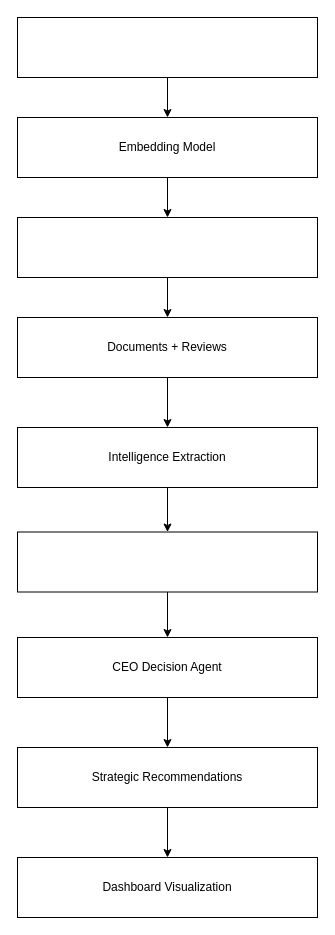
The diagram is 335 pixels wide and 935 high, and some of its shapes have lost their labels. Here are the shapes that lost their labels. From the top down, the box of each, then its label:
(16, 16, 318, 78): User Query
(16, 216, 318, 278): Hybrid Search
(16, 531, 318, 592): Structured Signals (Opportunities / Risks / Trends)
